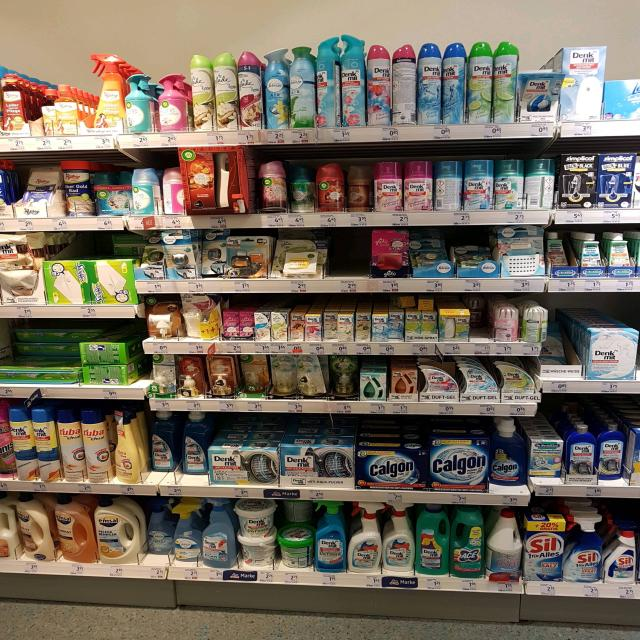void: (332, 234, 365, 290)
